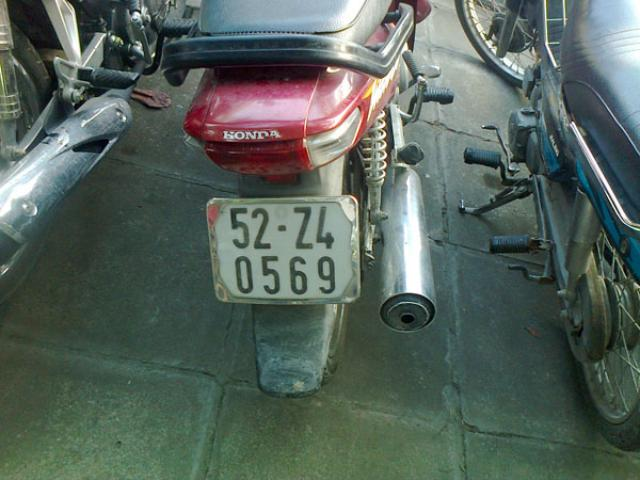plate: (205, 198, 372, 304)
